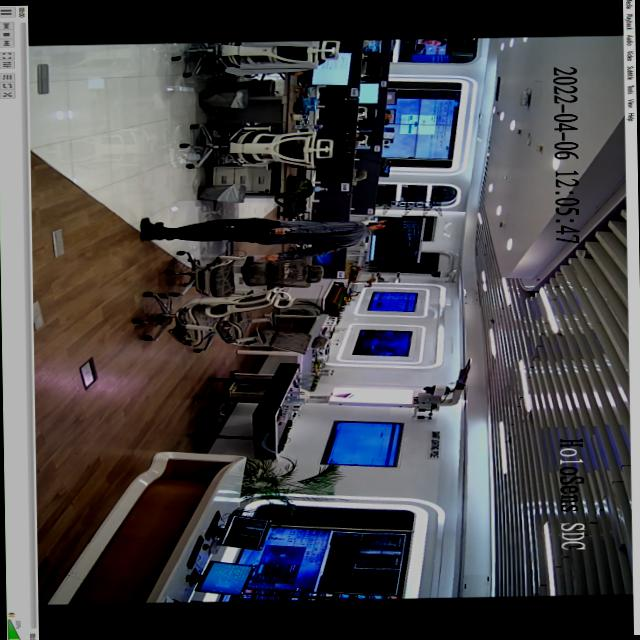long weapon: (216, 220, 292, 239)
